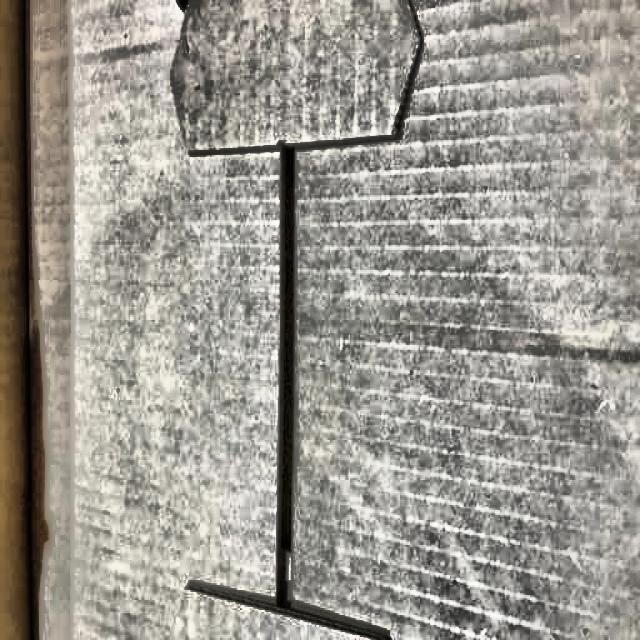cardboard: (5, 3, 640, 634)
